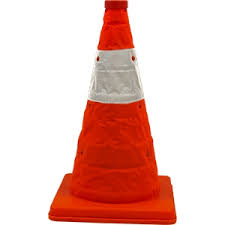cones: (47, 1, 177, 223)
